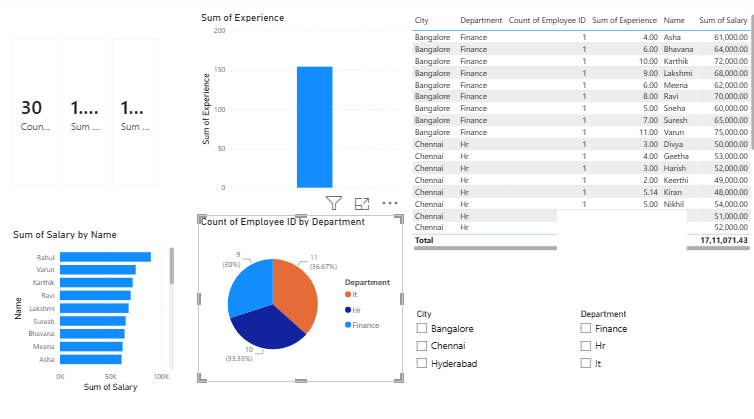

The dashboard page shown, as its layout file describes it:
{"tool":"powerbi","page":{"name":"Page 1","canvas":[1280,720],"ordinal":0},"visuals":[{"type":"cardVisual","fields":{"Data":["CountNonNull(sheet 1.Employee ID)","Sum(sheet 1.Salary)","Sum(sheet 1.Experience)"]},"box":[10.1,53.8,280.5,280.5],"z":0},{"type":"clusteredColumnChart","fields":{"Y":["Sum(sheet 1.Experience)"]},"box":[337.6,23.5,344.4,310.8],"z":1},{"type":"clusteredBarChart","fields":{"Category":["sheet 1.Name"],"Y":["Sum(sheet 1.Salary)"]},"box":[21.8,388,280.5,280.5],"z":2},{"type":"pieChart","fields":{"Category":["sheet 1.Department"],"Y":["CountNonNull(sheet 1.Employee ID)"]},"box":[337.6,366.2,344.4,280.5],"z":3},{"type":"tableEx","fields":{"Values":["sheet 1.City","sheet 1.Department","CountNonNull(sheet 1.Employee ID)","Sum(sheet 1.Experience)","sheet 1.Name","Sum(sheet 1.Salary)"]},"box":[692.1,23.5,587.9,408.2],"z":4},{"type":"slicer","fields":{"Values":["sheet 1.Department"]},"box":[967.6,519.1,218.4,146.1],"z":5},{"type":"slicer","fields":{"Values":["sheet 1.City"]},"box":[692.1,519.1,218.4,149.5],"z":6},{"type":"textbox","box":[941,357,218,150],"z":7}]}

Visuals, with their boxes in screenshot pixels (x1, y1, x2, y2), scaled from the page's 1280x720 canvas onto the 754x419 screenshot:
cardVisual - CountNonNull(sheet 1.Employee ID) x Sum(sheet 1.Salary): bbox=[6, 31, 171, 195]
clusteredColumnChart - Sum(sheet 1.Experience): bbox=[199, 14, 402, 195]
clusteredBarChart - sheet 1.Name x Sum(sheet 1.Salary): bbox=[13, 226, 178, 389]
pieChart - sheet 1.Department x CountNonNull(sheet 1.Employee ID): bbox=[199, 213, 402, 376]
tableEx - sheet 1.City x sheet 1.Department: bbox=[408, 14, 753, 251]
slicer - sheet 1.Department: bbox=[570, 302, 699, 387]
slicer - sheet 1.City: bbox=[408, 302, 536, 389]
textbox: bbox=[554, 208, 683, 295]
